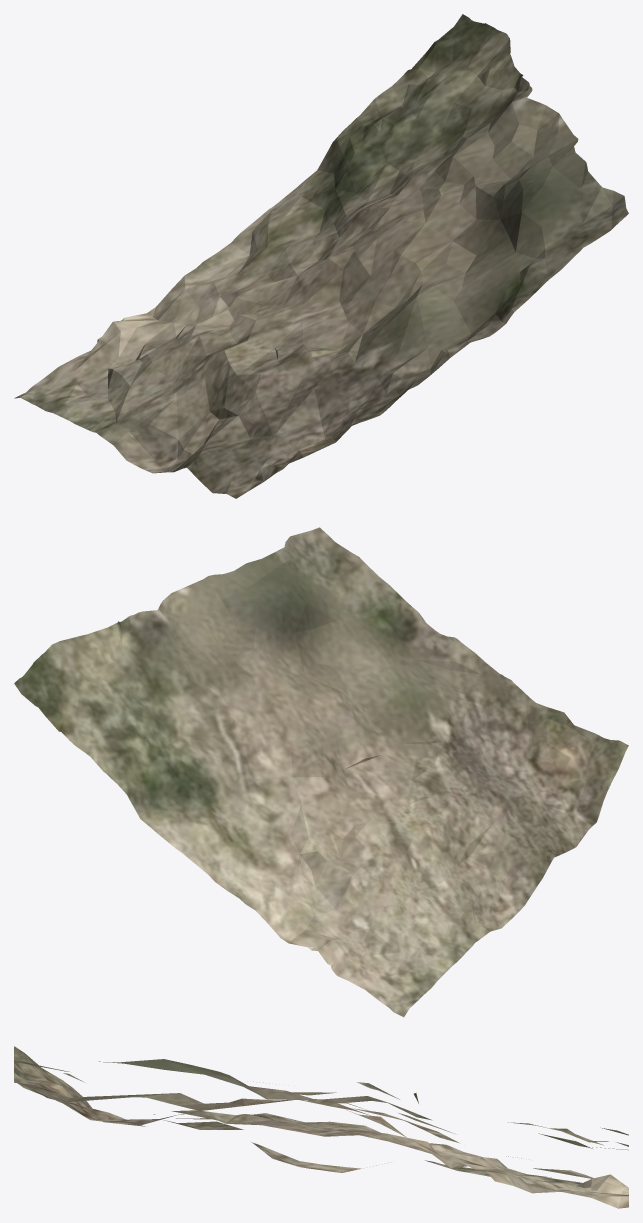
3 renders of one model, top to bottom at view 1: azimuth 30°, elevation 25°; view 2: azimuth 150°, elevation 25°; view 3: azimuth 270°, elevation 25°, orthographic. The views are drawn at different scales.
Bounding box in the file's own units: 5.9 × 3.62 × 5.9.
Materials: 3 (3 with a texture image).
